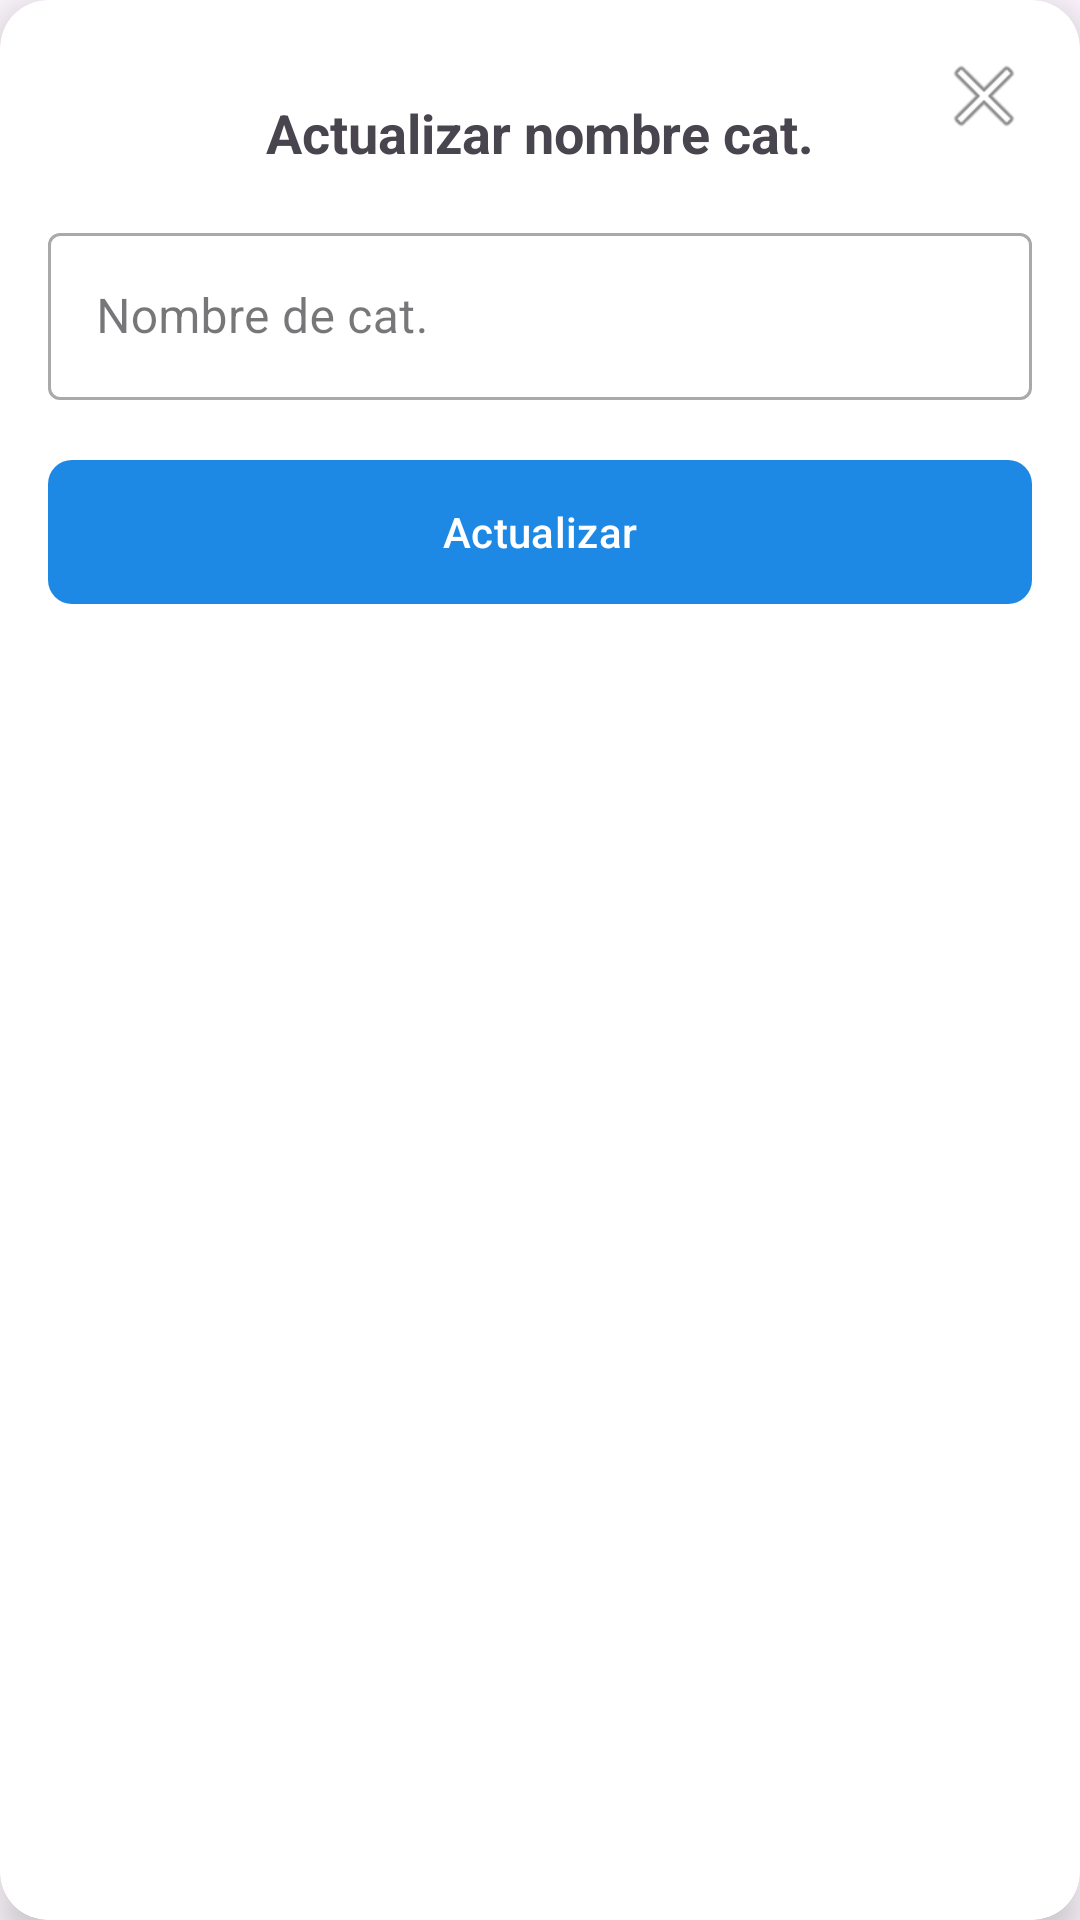

Icon click points for this 1080 × 1920 phone screenshot, format point (x, y):
close clear cancel: point (984, 96)
